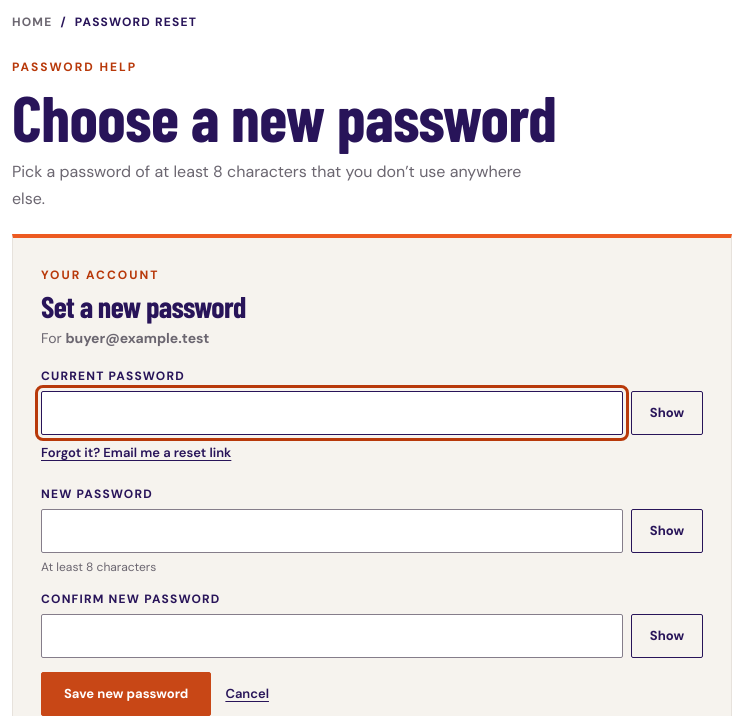
ResetPasswordPage, signed in without a reset link (AW-349) › checks the current password, then saves, and says the other devices were signed out
In the password field labelled "Current password": point(332, 413) [41,391,623,435], type "old-pass-1"
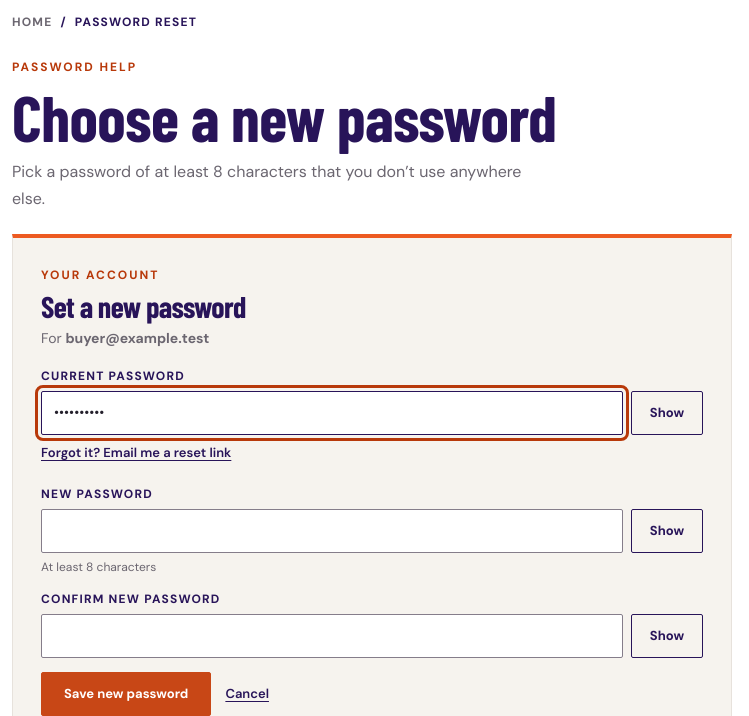
In the password field labelled "New password": point(332, 531) [41,509,623,553], type "new-pass-123"
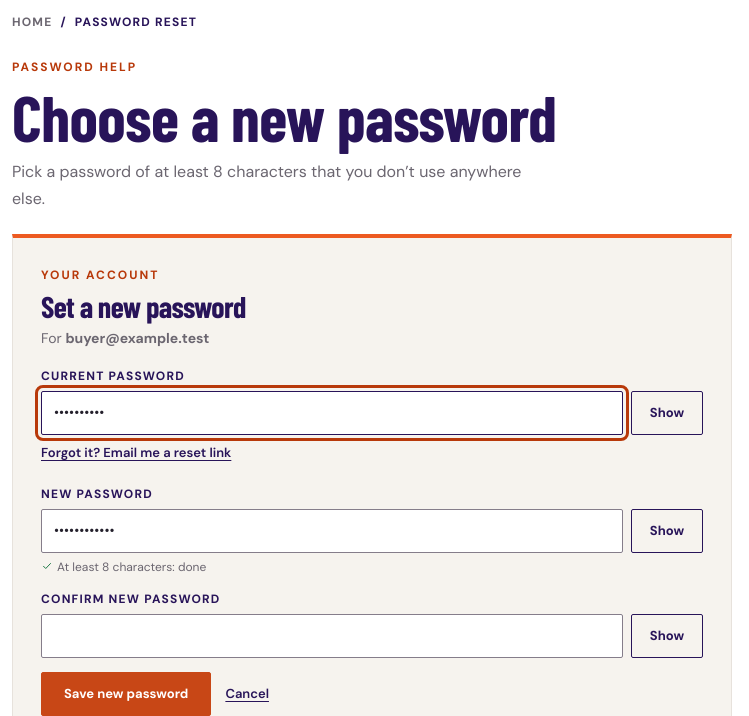
In the password field labelled "Confirm new password": point(332, 636) [41,614,623,658], type "new-pass-123"
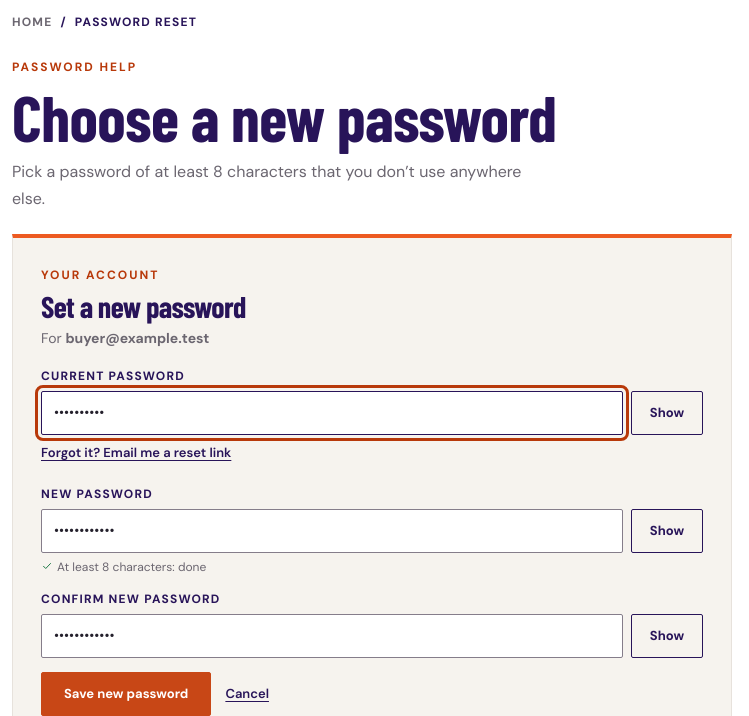
Click the button "Save new password": point(126, 694) [41,672,211,715]
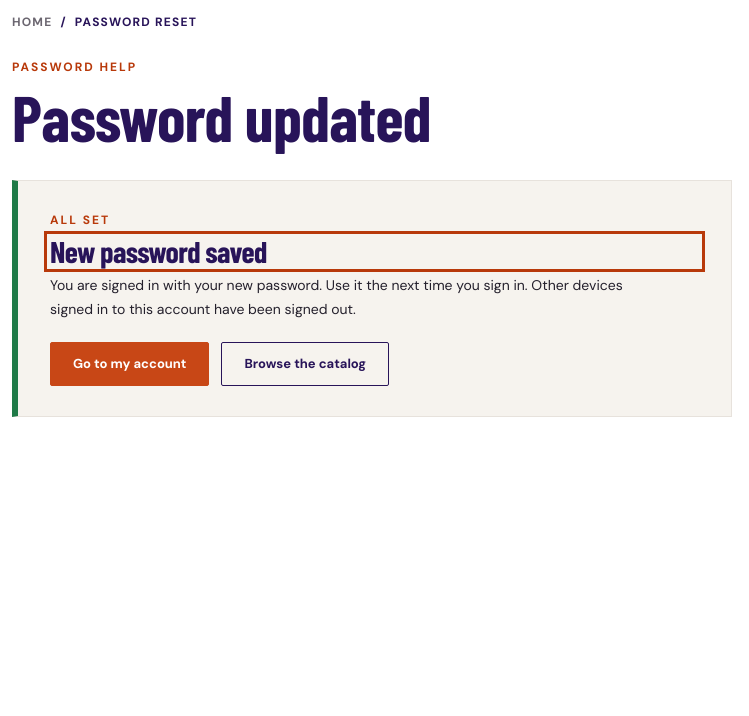
Expected: the heading "Password updated" is shown, [12,78,431,155]
Expected: the text "Other devices signed in to this account have been signed out." is shown, [50,276,623,318]
